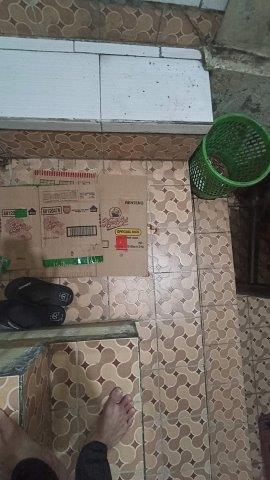kardus: (1, 172, 146, 276)
